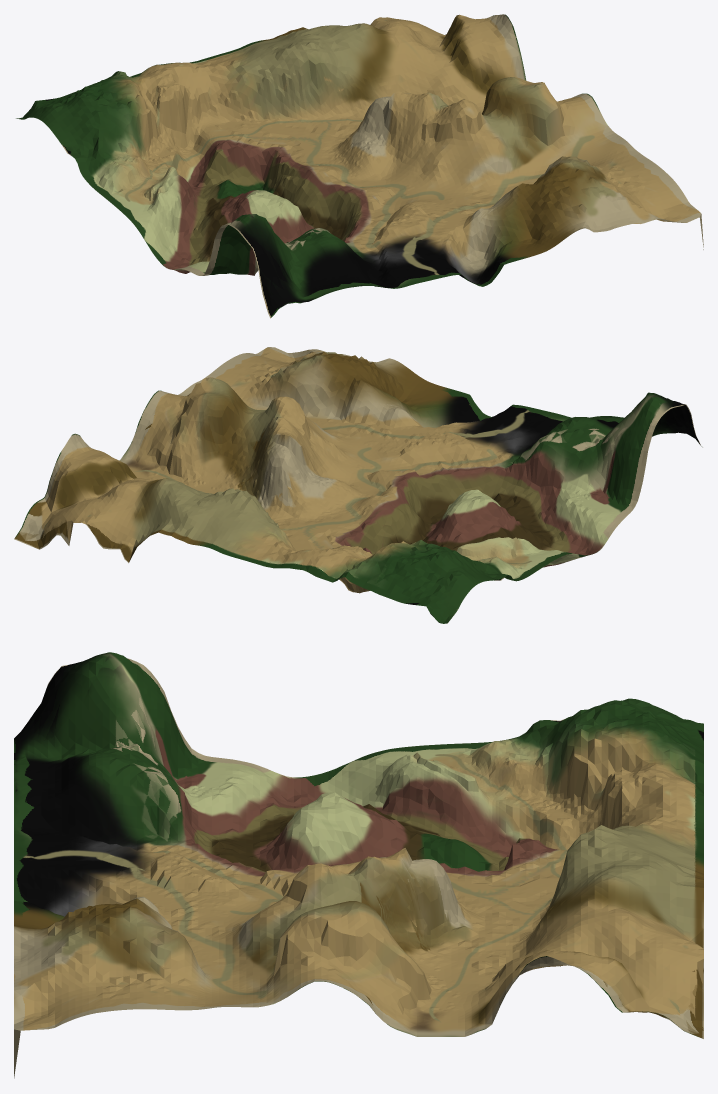
3 views of the same model, one above another, from view 1: azimuth 30°, elevation 25°; view 2: azimuth 150°, elevation 25°; view 3: azimuth 270°, elevation 25° (orthographic). The views are drawn at different scales.
Visible parts, largest first — view 1: copysT12; view 2: copysT12; view 3: copysT12.
Boxes of the visible parts, bbox=[...] form: copysT12: bbox=[16, 14, 703, 318]; copysT12: bbox=[14, 347, 702, 623]; copysT12: bbox=[14, 652, 703, 1078].
Bounding box in the file's own units: 31667 × 7895 × 32440.
